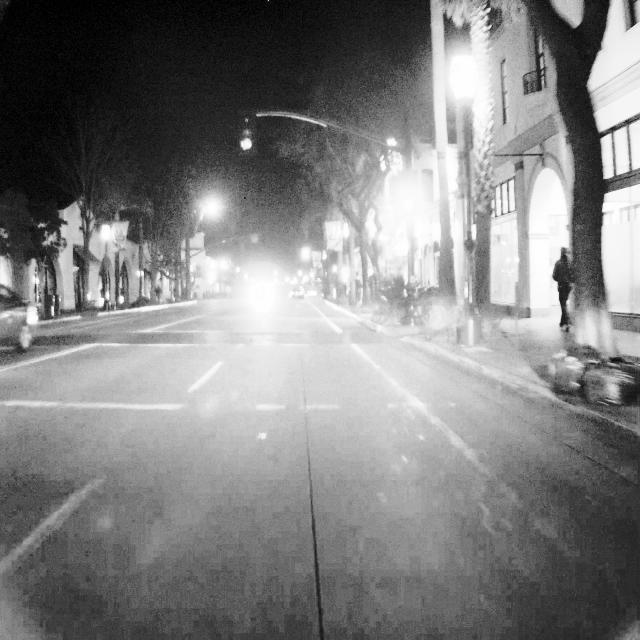Light: (401, 172, 416, 218), (241, 114, 254, 153)
Tree: (540, 0, 624, 384)
